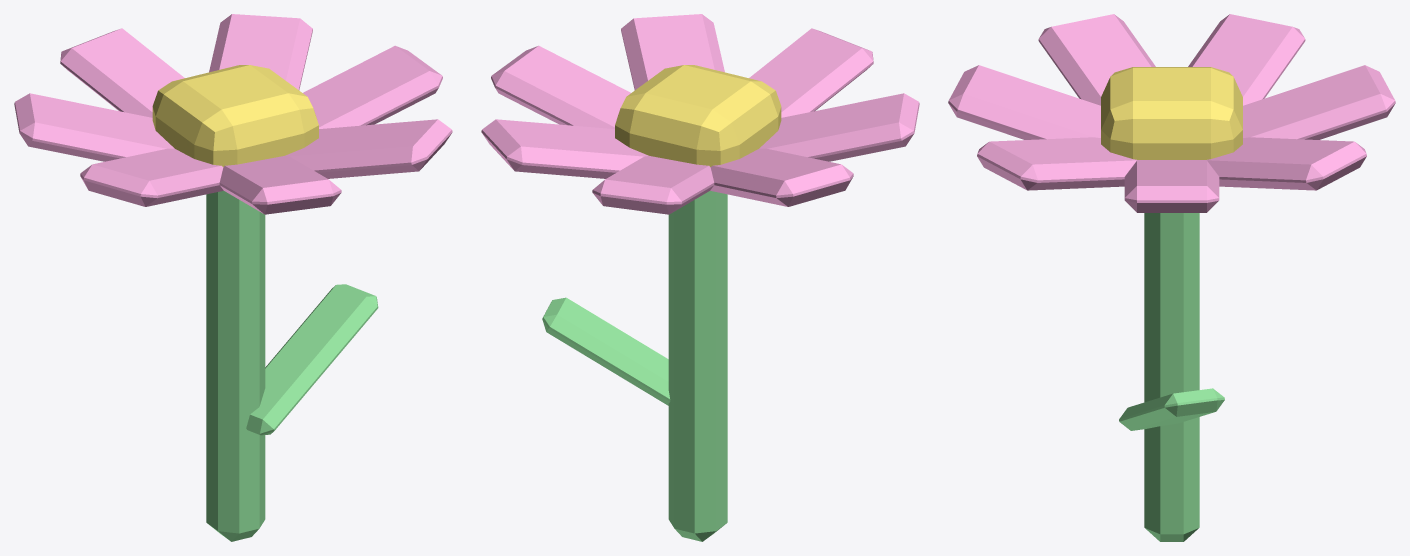
The model's file is daisy.glb.
3 renders of one model, left to right at view 1: azimuth 30°, elevation 25°; view 2: azimuth 150°, elevation 25°; view 3: azimuth 270°, elevation 25°, orthographic.
Parts seen in each view (by area): view 1: daisy; view 2: daisy; view 3: daisy.
Boxes of the visible parts, box(x1,y1,x2,y2) form: daisy: box(14, 14, 452, 541); daisy: box(481, 14, 919, 541); daisy: box(948, 14, 1395, 541).
Bounding box in the file's own units: 1.11 × 1.27 × 1.14.
